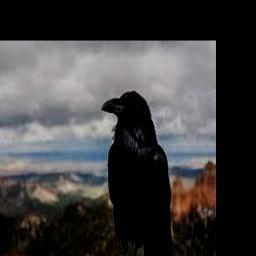Crow: (101, 90, 176, 256)
